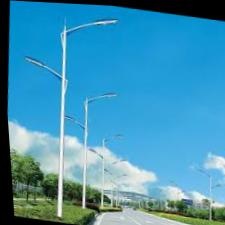Animal: (8, 1, 138, 225), (52, 81, 129, 223), (78, 124, 123, 218)
